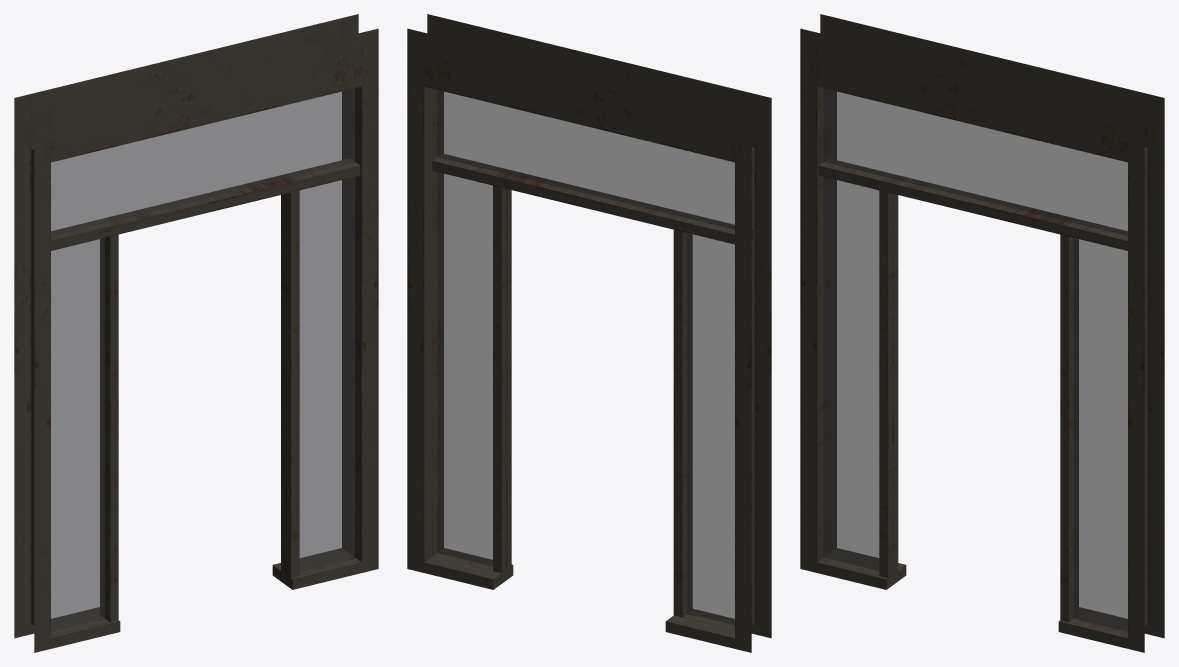
File: DoorFrame_Metal_Single.glb
3 views of the same model, side by side, from view 1: azimuth 30°, elevation 25°; view 2: azimuth 150°, elevation 25°; view 3: azimuth 330°, elevation 25° (orthographic).
Visible parts, largest first — view 1: DoorFrame_Metal_Single; view 2: DoorFrame_Metal_Single; view 3: DoorFrame_Metal_Single.
Boxes of the visible parts, x1,y1,x2,y2 form: DoorFrame_Metal_Single: [14, 14, 378, 652]; DoorFrame_Metal_Single: [407, 14, 771, 652]; DoorFrame_Metal_Single: [800, 14, 1164, 652].
Bounding box in the file's own units: 2 × 3 × 0.2.
2 materials, 1 textured.
